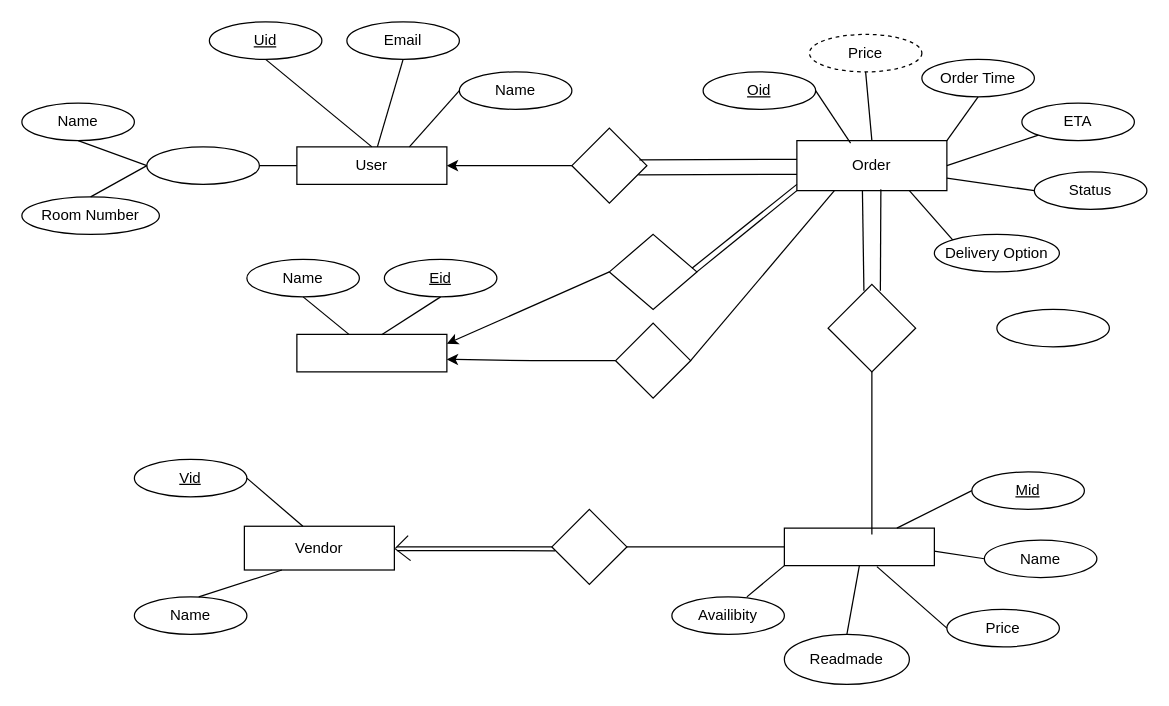
This 1169x706 diagram has some shape labels left out. The centre of each missing label's shape, as x and y in pixels:
"Contains" belongs at point 871,327.
"Delivers" belongs at point 652,360.
"Employee" belongs at point 371,352.
"Hostel" belongs at point 202,165.
"Menu Items" belongs at point 858,546.
"Places" belongs at point 609,165.
"Prepares" belongs at point 652,271.
"Quantity" belongs at point 1052,327.
"Sources" belongs at point 589,546.
